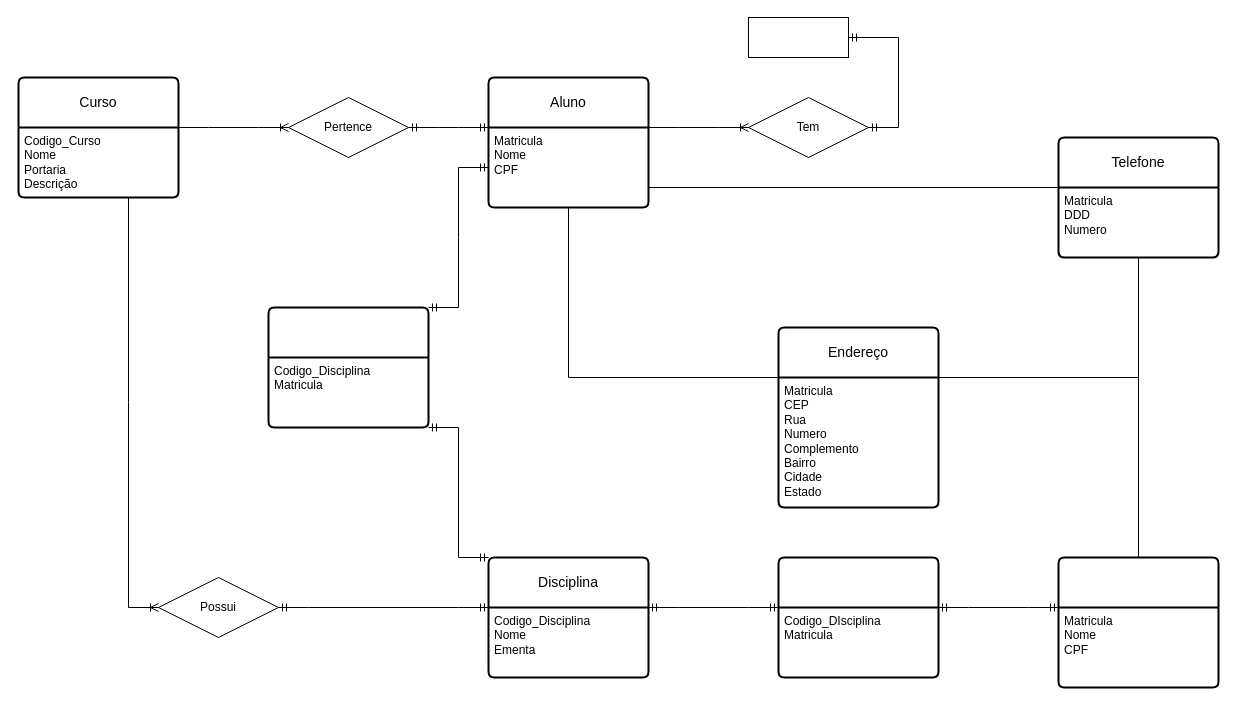
Some shapes in this 1236 by 706 pixel diagram are drawn without their labels. Each missing label, with the box of its shape:
Disciplina - Aluno: (267, 306, 429, 428)
Disciplina - Professor: (777, 556, 939, 678)
Notas: (748, 16, 848, 58)
Professor: (1057, 556, 1219, 688)
